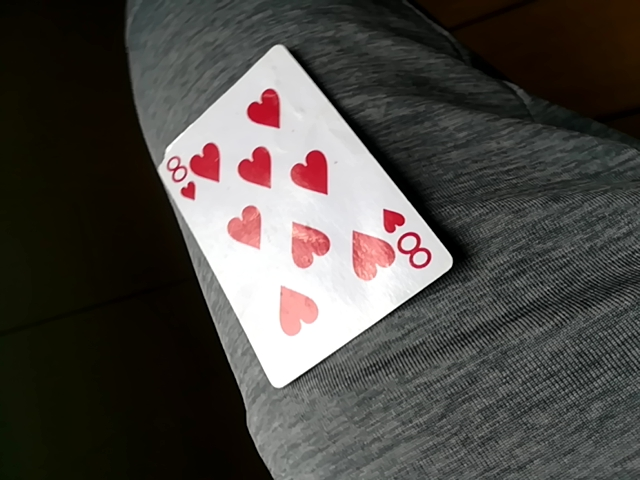hx 8: (148, 43, 461, 392)
